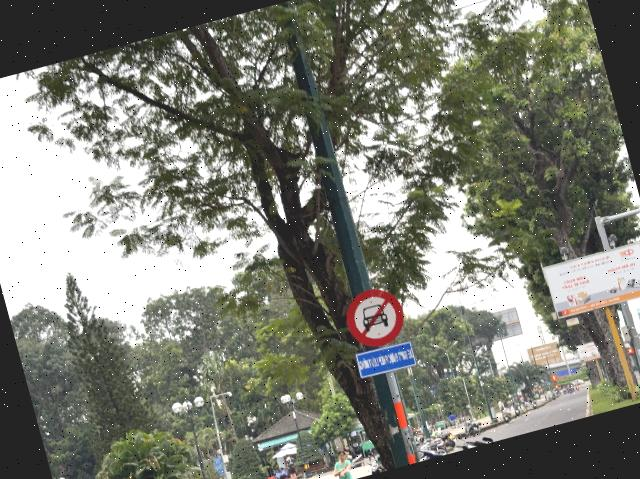cam-o-to: (340, 282, 411, 352)
